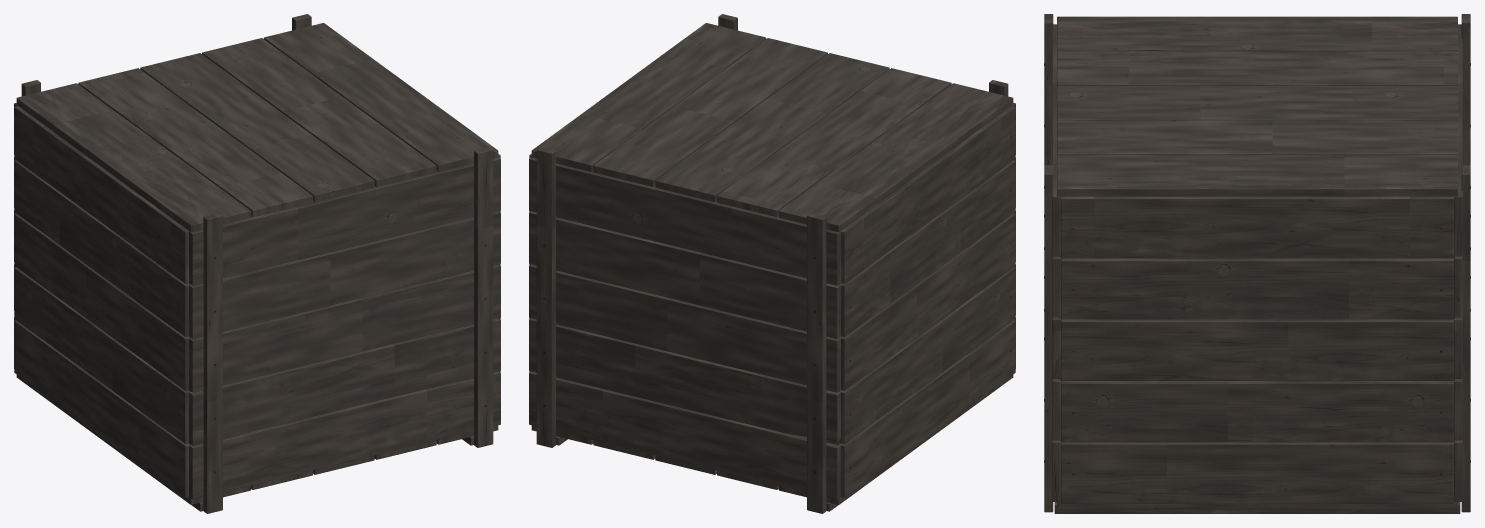
File: SM_timber_shipping_crate_920c7beccb.fbx
3 views of the same model, side by side, from view 1: azimuth 30°, elevation 25°; view 2: azimuth 150°, elevation 25°; view 3: azimuth 270°, elevation 25° (orthographic). The views are drawn at different scales.
Parts seen in each view (by area): view 1: SM_timber_shipping_crate_920c7beccb; view 2: SM_timber_shipping_crate_920c7beccb; view 3: SM_timber_shipping_crate_920c7beccb.
Boxes of the visible parts, box(x1,y1,x2,y2) form: SM_timber_shipping_crate_920c7beccb: box(14, 14, 500, 513); SM_timber_shipping_crate_920c7beccb: box(529, 14, 1015, 513); SM_timber_shipping_crate_920c7beccb: box(1044, 14, 1470, 513).
Size of what is drawn, in the model's own units: 106 by 108 by 94.9.
2 materials, 2 textured.
